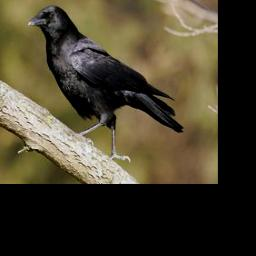Crow: (24, 3, 184, 166)
